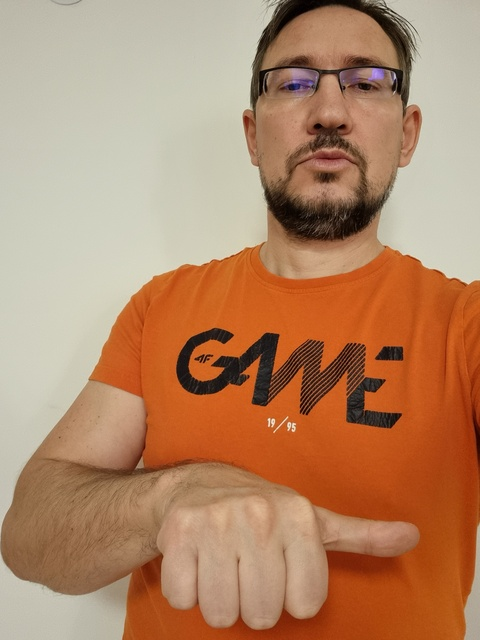GestBack: (160, 495, 420, 629)
